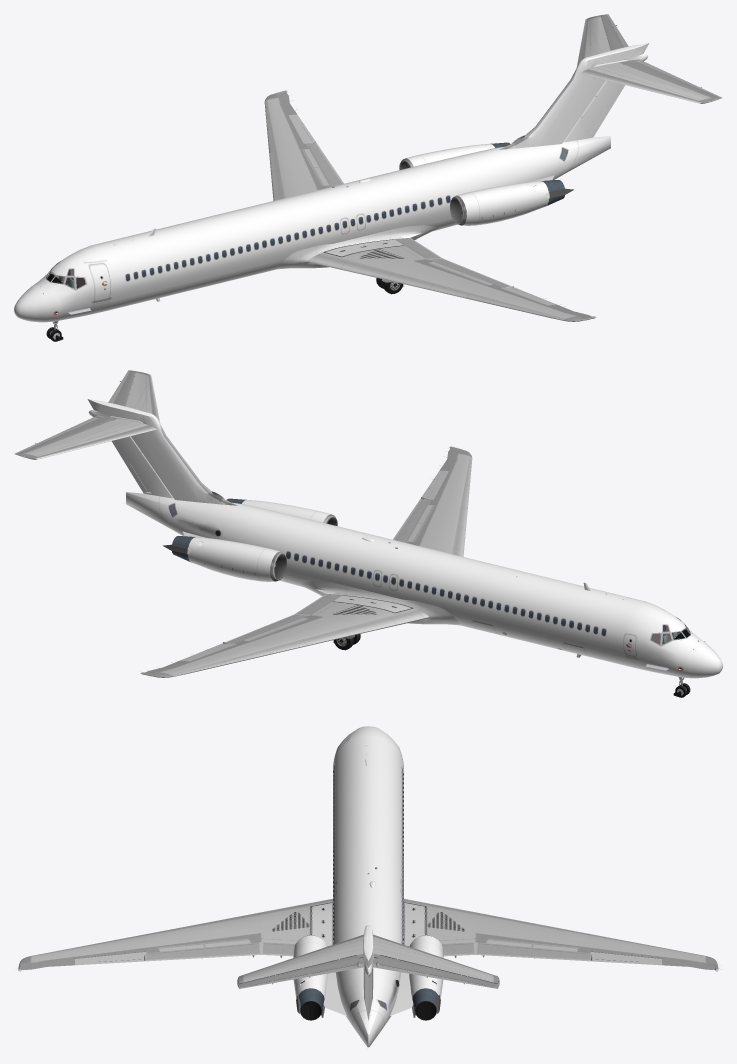
The picture shows the model from 3 angles, top to bottom: view 1: azimuth 30°, elevation 25°; view 2: azimuth 150°, elevation 25°; view 3: azimuth 270°, elevation 25°; orthographic projection. The views are drawn at different scales.
Visible parts, largest first — view 1: Fuselage, Engines, VStabilizer, Stabilizer, WingR2, WingFairing, WingL2, WingL1, Rudder, WingR3, WingL3, SlatsL2 (+3 smaller); view 2: Fuselage, Engines, VStabilizer, Stabilizer, WingL2, WingFairing, WingR2, WingR1, Rudder, WingL3, WingR3, SlatsR2 (+3 smaller); view 3: Fuselage, Stabilizer, Engines, WingL2, WingR2, WingL1, WingR1, WingL3, WingR3, FlapOutL, FlapOutR, ElevatorL (+4 smaller).
Part boxes in pixels (x1,y1,x2,y2): Fuselage: [14, 136, 610, 322]; Engines: [399, 142, 573, 225]; VStabilizer: [499, 43, 649, 149]; Stabilizer: [576, 15, 714, 103]; WingR2: [276, 143, 329, 197]; WingFairing: [277, 225, 437, 269]; WingL2: [381, 259, 501, 293]; WingL1: [322, 239, 420, 268]; Rudder: [563, 80, 625, 142]; WingR3: [265, 90, 303, 149]; WingL3: [473, 288, 596, 321]; SlatsL2: [369, 268, 472, 298]; Fuselage: [126, 492, 722, 678]; Engines: [163, 498, 337, 581]; VStabilizer: [87, 399, 237, 505]; Stabilizer: [22, 371, 160, 459]; WingL2: [407, 499, 460, 553]; WingFairing: [299, 581, 459, 625]; WingR2: [235, 615, 355, 649]; WingR1: [316, 595, 414, 624]; Rudder: [111, 436, 173, 498]; WingL3: [433, 446, 471, 505]; WingR3: [140, 644, 263, 677]; SlatsR2: [264, 624, 367, 654]; Fuselage: [323, 726, 413, 1047]; Stabilizer: [237, 934, 499, 983]; Engines: [293, 935, 443, 1020]; WingL2: [146, 915, 261, 952]; WingR2: [475, 915, 590, 952]; WingL1: [261, 902, 332, 945]; WingR1: [404, 902, 475, 945]; WingL3: [17, 935, 146, 971]; WingR3: [590, 935, 719, 971]; FlapOutL: [146, 942, 259, 961]; FlapOutR: [477, 942, 590, 961]; ElevatorL: [237, 955, 363, 988].
Bounding box in the file's own units: 39.85 × 9.43 × 33.3.
405 materials, 396 textured.
